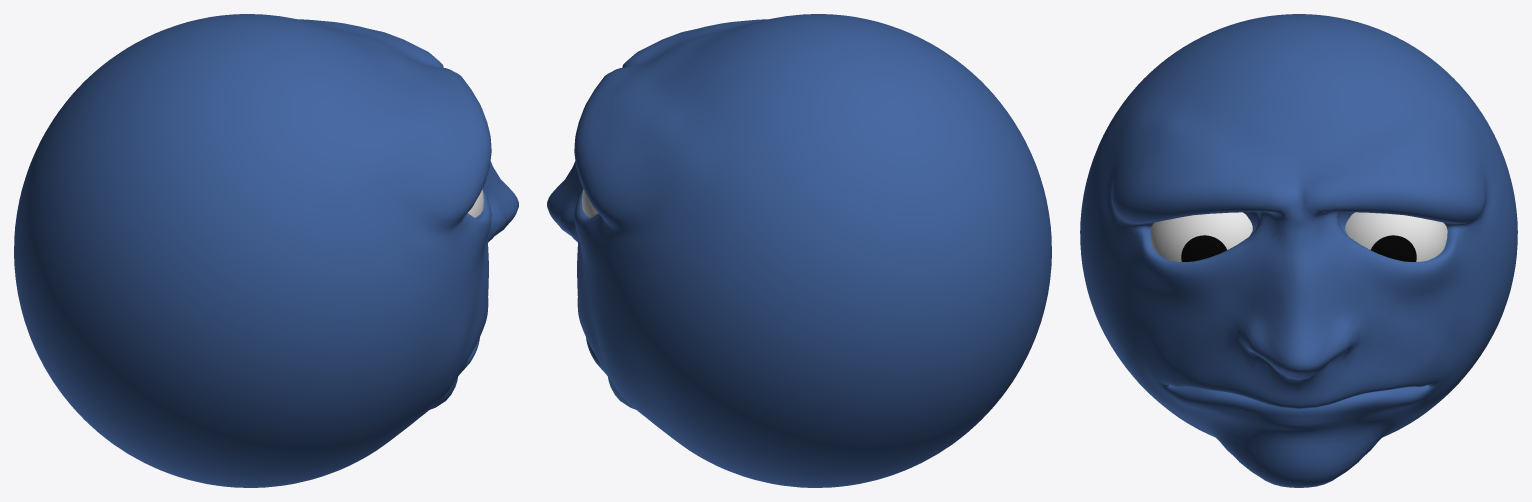
The model's file is bossSadness01.fbx.
3 renders of one model, left to right at view 1: azimuth 30°, elevation 25°; view 2: azimuth 150°, elevation 25°; view 3: azimuth 270°, elevation 25°, orthographic. The views are drawn at different scales.
Parts seen in each view (by area): view 1: sadnessMain; view 2: sadnessMain; view 3: sadnessMain.
Boxes of the visible parts, <box> form: sadnessMain: <box>14,14,518,487</box>; sadnessMain: <box>547,14,1051,487</box>; sadnessMain: <box>1080,14,1517,487</box>.
Bounding box in the file's own units: 227 × 199 × 197.
